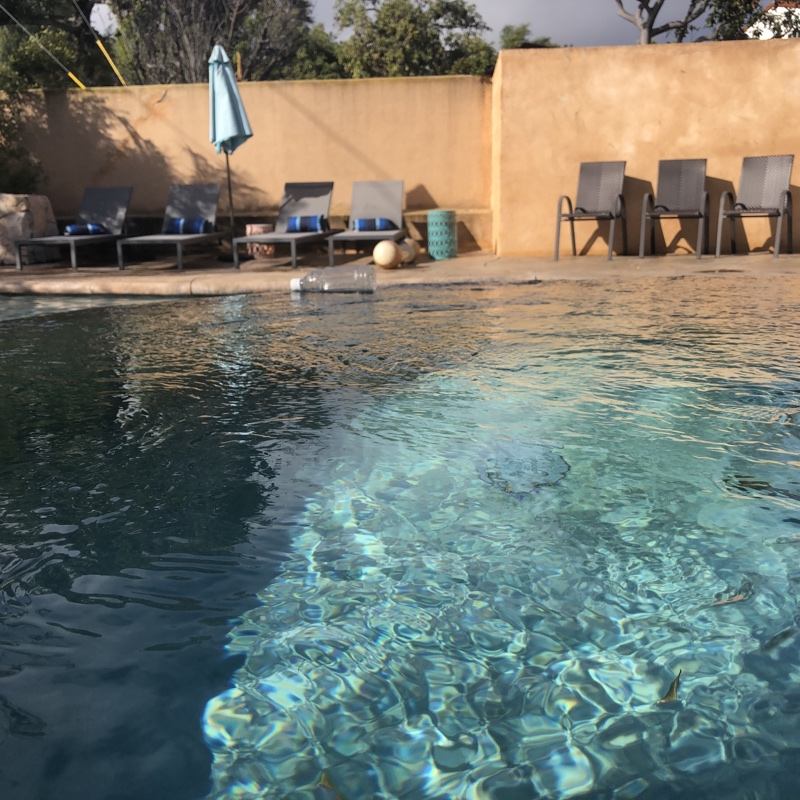Plastic Bottle: (287, 262, 379, 295)
